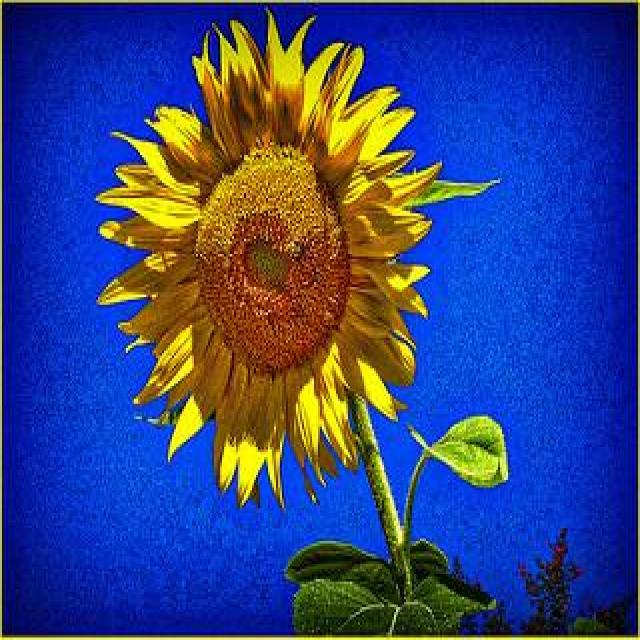sunflower: (97, 12, 479, 510)
